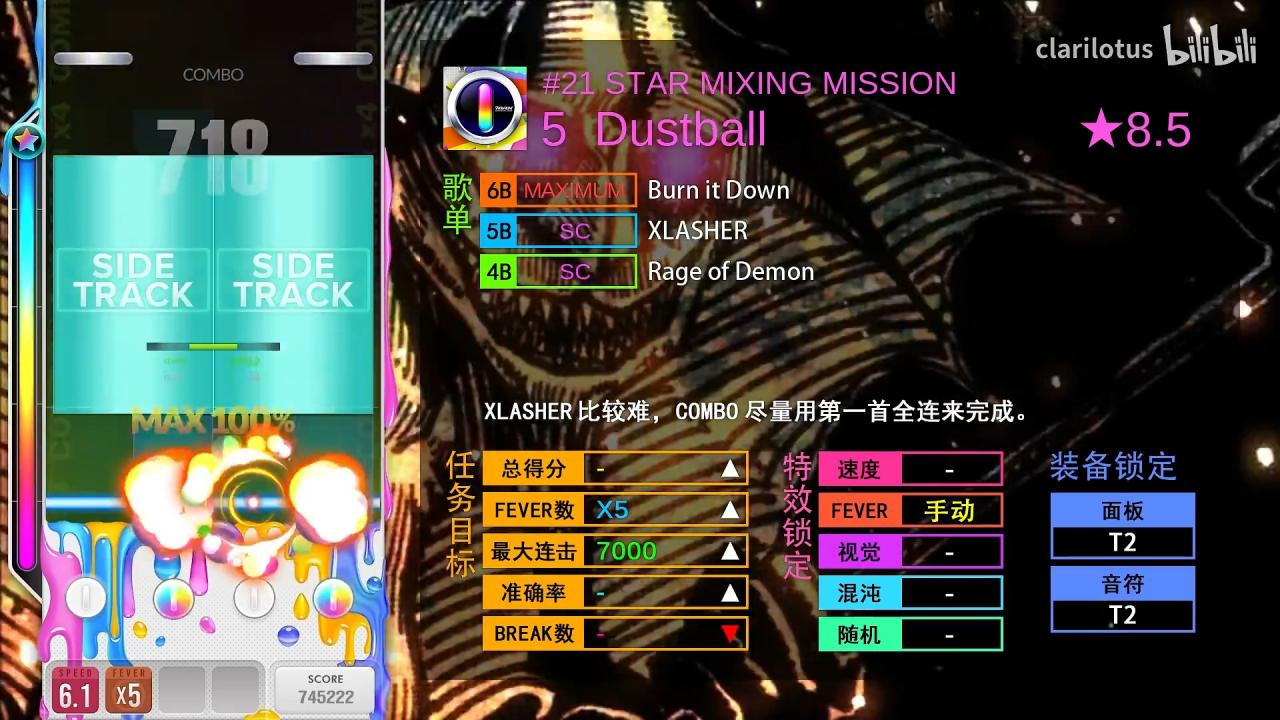note: (54, 52, 133, 66), (294, 52, 373, 66)
side-end: (214, 154, 374, 165), (53, 155, 214, 165)
side-start: (214, 403, 374, 415), (53, 403, 214, 414)
